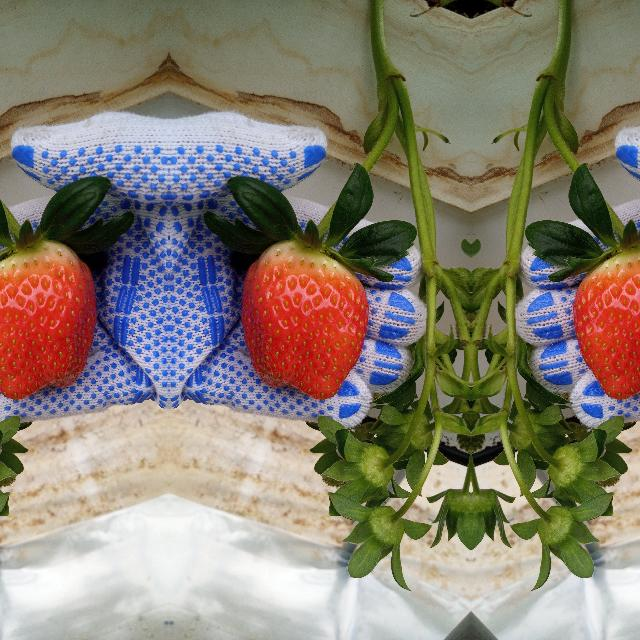Health_100: (240, 238, 366, 398), (0, 237, 96, 398), (574, 237, 640, 398)
